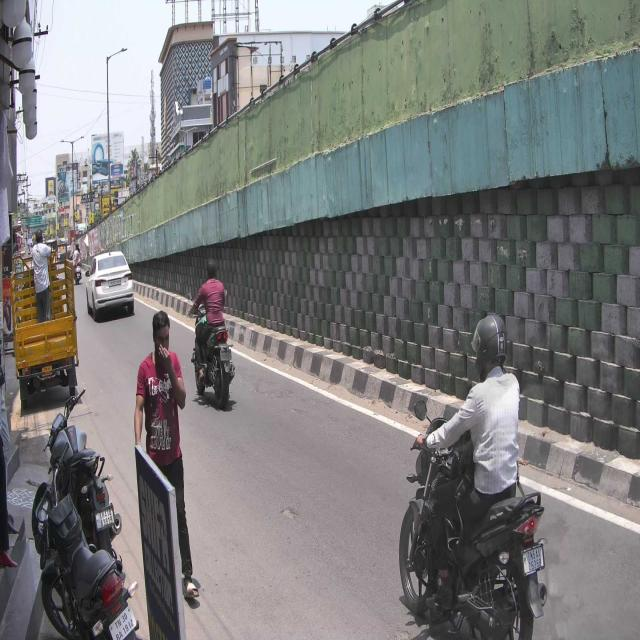single_rider: (398, 313, 549, 640), (186, 258, 236, 411)
